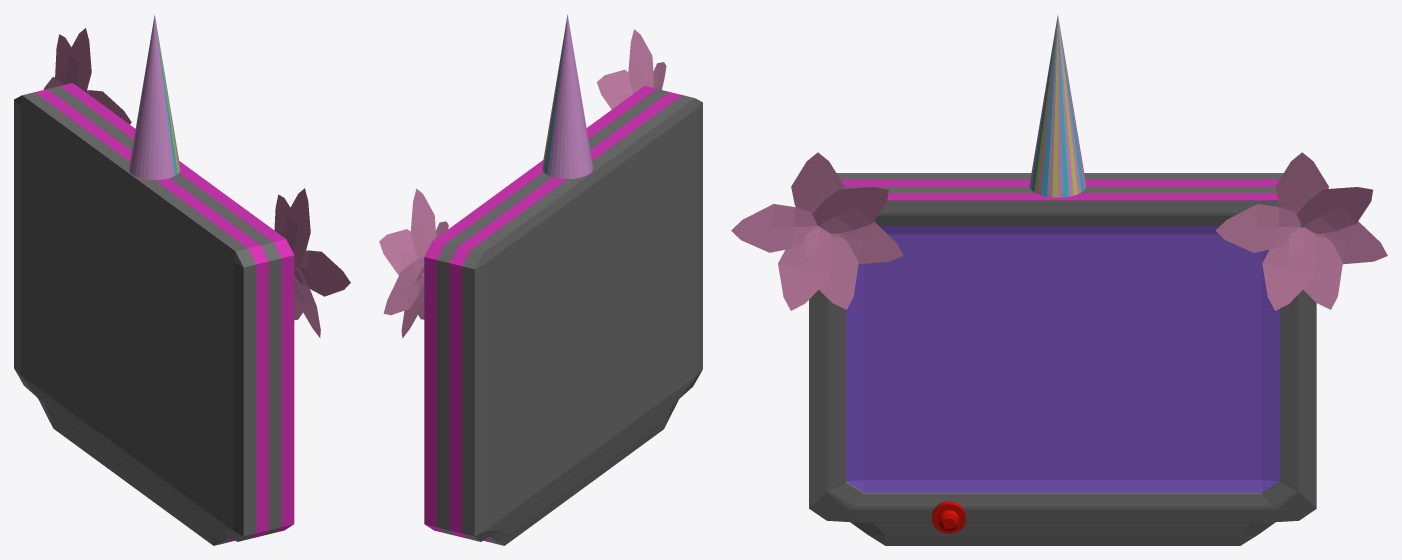
3 renders of one model, left to right at view 1: azimuth 30°, elevation 25°; view 2: azimuth 150°, elevation 25°; view 3: azimuth 270°, elevation 25°, orthographic. The views are drawn at different scales.
Visible parts, largest first — view 1: Cube; view 2: Cube; view 3: Cube.
Part boxes in pixels (x1,y1,x2,y2): Cube: (14,14,350,545); Cube: (379,15,702,545); Cube: (731,14,1387,545).
Bounding box in the file's own units: 48.6 × 296 × 339.
